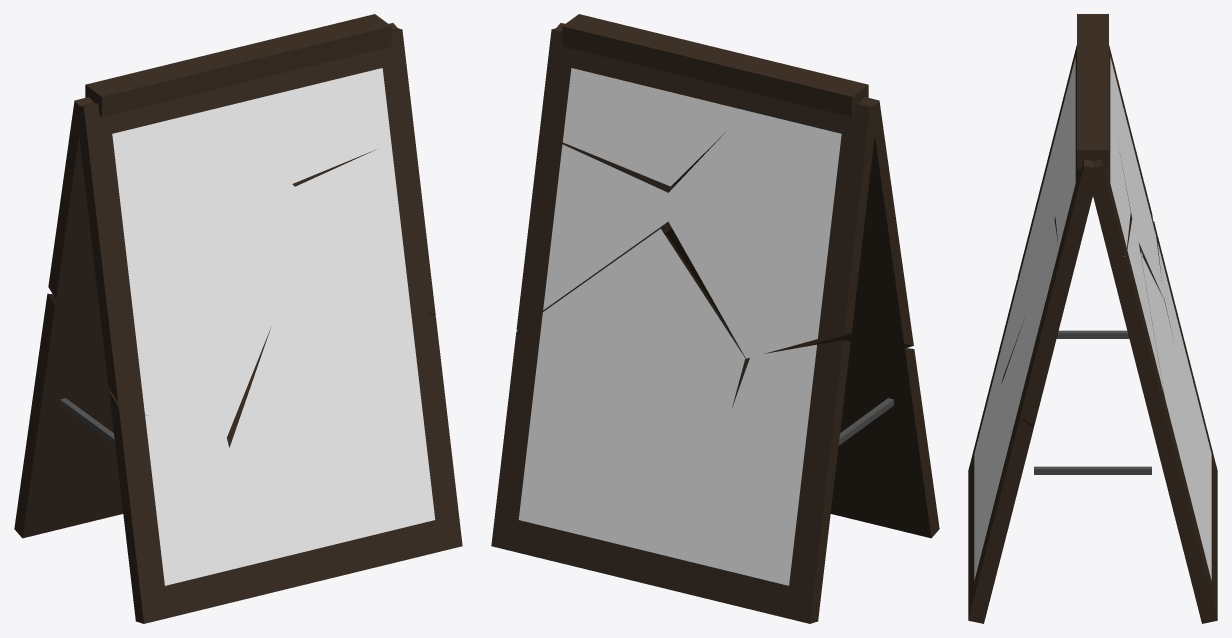
Rendered from tour_board.glb.
The picture shows the model from 3 angles, left to right: view 1: azimuth 30°, elevation 25°; view 2: azimuth 150°, elevation 25°; view 3: azimuth 270°, elevation 25°; orthographic projection. The views are drawn at different scales.
Visible parts, largest first — view 1: chunk_4, chunk_1, chunk_2, chunk_5, chunk_0; view 2: chunk_3, chunk_4, chunk_2, chunk_5, chunk_0; view 3: chunk_3, chunk_1, chunk_5, chunk_4, chunk_0, chunk_2.
Boxes of the visible parts, x1,y1,x2,y2 form: chunk_4: [48, 67, 304, 437]; chunk_1: [225, 244, 462, 593]; chunk_2: [14, 293, 266, 623]; chunk_5: [158, 14, 414, 183]; chunk_0: [292, 132, 435, 315]; chunk_3: [491, 228, 748, 589]; chunk_4: [665, 66, 913, 362]; chunk_2: [668, 340, 939, 623]; chunk_5: [539, 14, 791, 186]; chunk_0: [516, 132, 692, 330]; chunk_3: [1105, 253, 1217, 623]; chunk_1: [968, 273, 1105, 623]; chunk_5: [1055, 48, 1130, 257]; chunk_4: [1003, 14, 1164, 374]; chunk_0: [1020, 217, 1169, 438]; chunk_2: [968, 221, 1217, 535].
Size of the model in its own units: 0.66 by 0.9611 by 0.4652.
